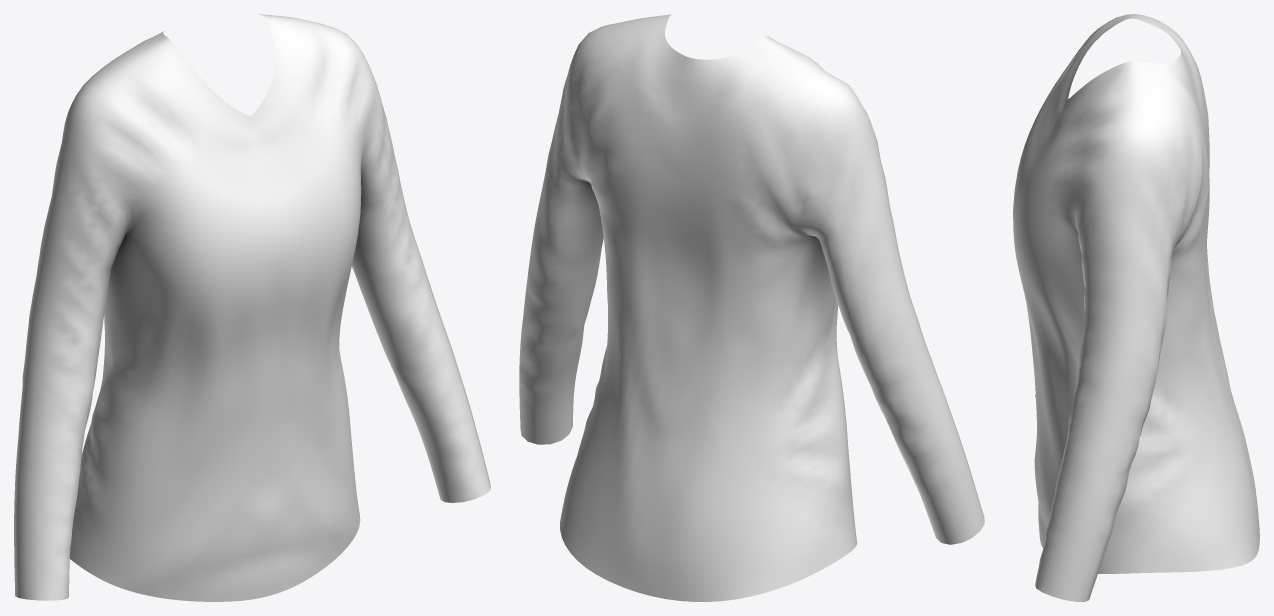
File: LongSleeve1.glb
The picture shows the model from 3 angles, left to right: view 1: azimuth 30°, elevation 25°; view 2: azimuth 150°, elevation 25°; view 3: azimuth 270°, elevation 25°; orthographic projection. The views are drawn at different scales.
Parts seen in each view (by area): view 1: Dress_1_Group6255_0005; view 2: Dress_1_Group6255_0005; view 3: Dress_1_Group6255_0005.
Part boxes in pixels (x1,y1,x2,y2): Dress_1_Group6255_0005: [14, 14, 490, 601]; Dress_1_Group6255_0005: [519, 14, 984, 601]; Dress_1_Group6255_0005: [1013, 14, 1259, 601].
Size of the model in its own units: 0.0577 by 0.0629 by 0.0283.
8 materials, 8 textured.
